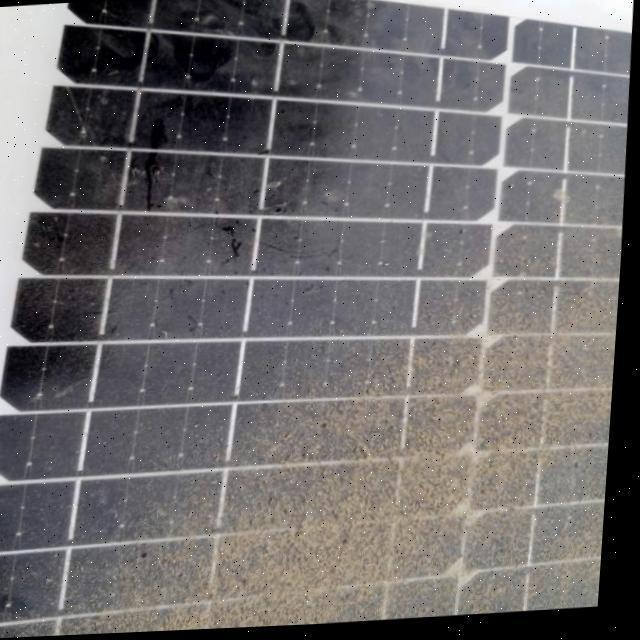Anomaly Solar Panel: (0, 18, 638, 640)
Surface Contaminant: (0, 19, 633, 639)
